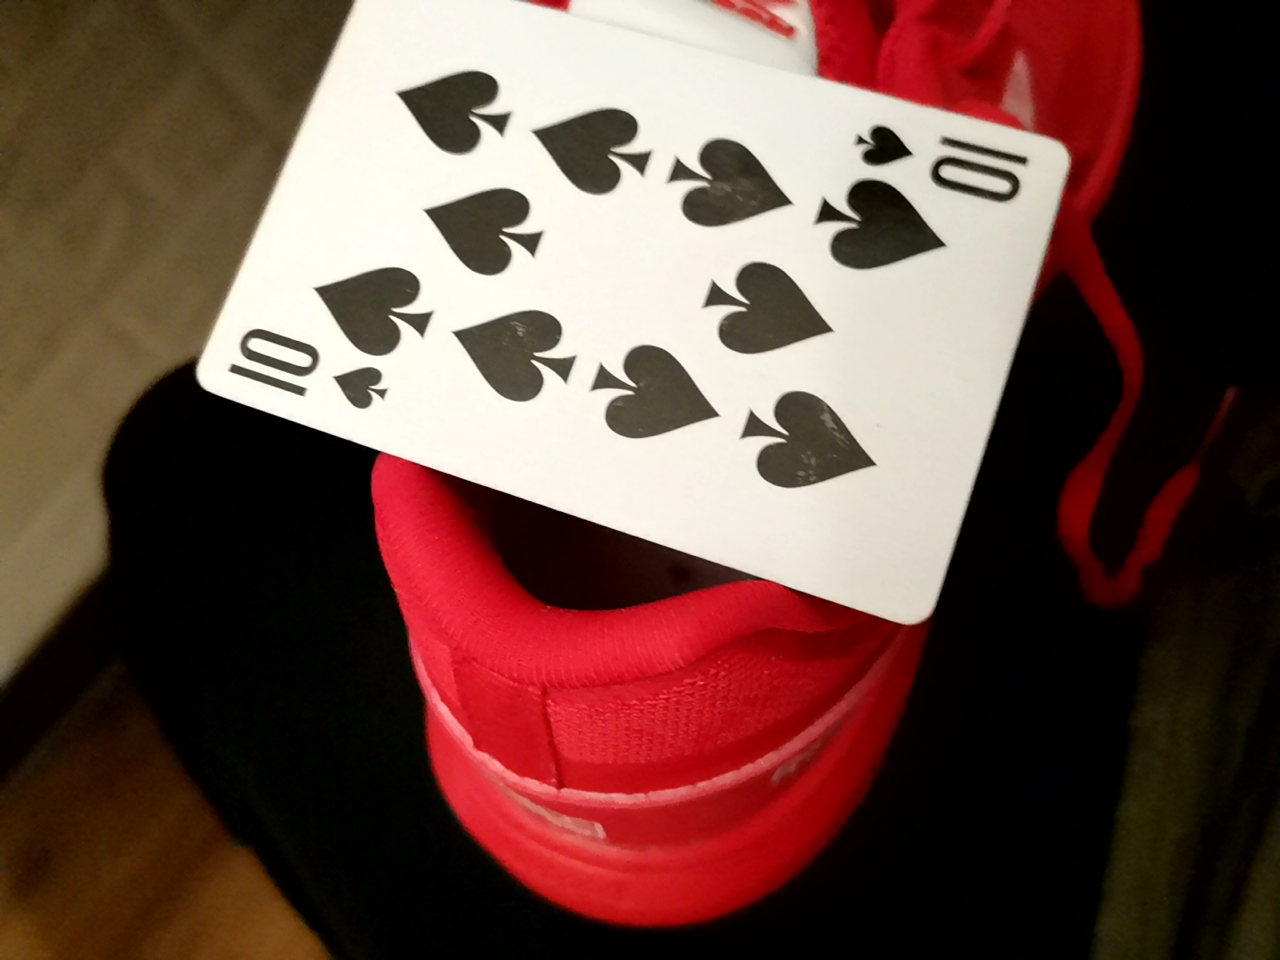ht 10: (173, 12, 1058, 627)
